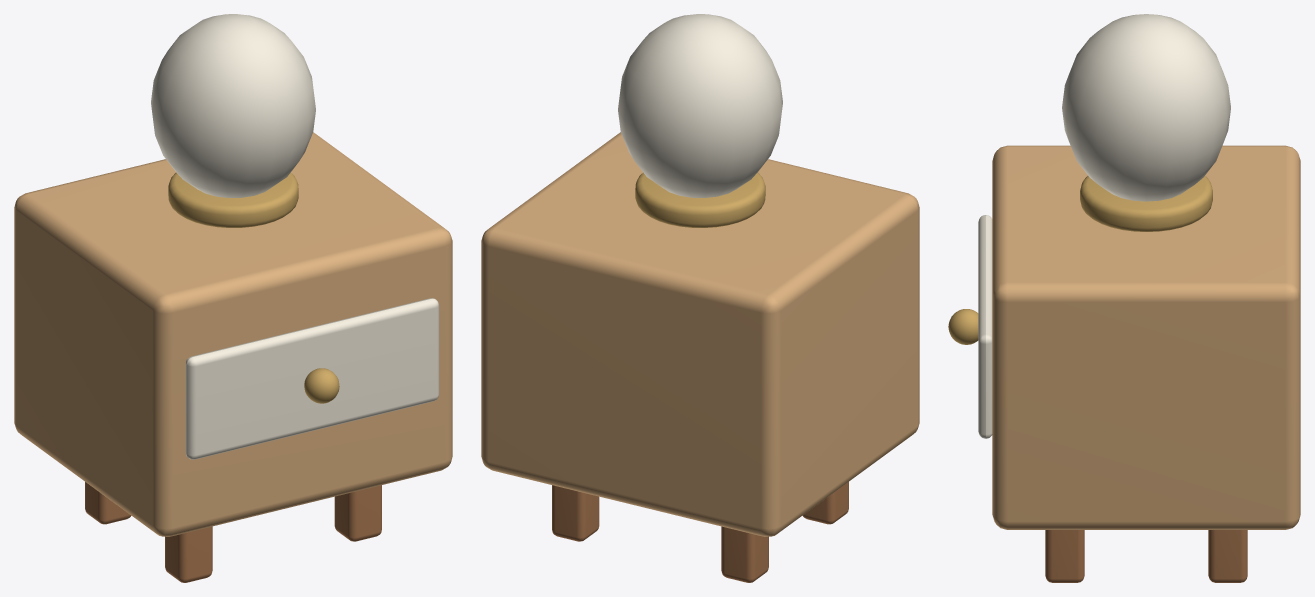
Rendered from nightstand.glb.
3 renders of one model, left to right at view 1: azimuth 30°, elevation 25°; view 2: azimuth 150°, elevation 25°; view 3: azimuth 270°, elevation 25°, orthographic.
Visible parts, largest first — view 1: Bedside cabinet, Bedside drawer, Bedside lamp, Bedside lamp base, Tapered leg.029, Tapered leg.031, Tapered leg.028, Drawer knob; view 2: Bedside cabinet, Bedside lamp, Bedside lamp base, Tapered leg.028, Tapered leg.030, Tapered leg.029; view 3: Bedside cabinet, Bedside lamp, Bedside lamp base, Bedside drawer, Tapered leg.030, Tapered leg.031, Drawer knob.
Part boxes in pixels (x1,y1,x2,y2): Bedside cabinet: (14, 132, 452, 536); Bedside drawer: (185, 298, 439, 459); Bedside lamp: (151, 14, 315, 197); Bedside lamp base: (168, 172, 298, 227); Tapered leg.029: (165, 526, 212, 582); Tapered leg.031: (334, 485, 381, 541); Tapered leg.028: (85, 482, 131, 524); Drawer knob: (304, 368, 339, 403); Bedside cabinet: (481, 132, 919, 536); Bedside lamp: (618, 14, 782, 197); Bedside lamp base: (635, 172, 765, 227); Tapered leg.028: (721, 526, 768, 582); Tapered leg.030: (552, 485, 599, 541); Tapered leg.029: (802, 482, 848, 524); Bedside cabinet: (992, 145, 1300, 529); Bedside lamp: (1062, 14, 1230, 201); Bedside lamp base: (1080, 176, 1212, 231); Bedside drawer: (978, 215, 992, 438); Tapered leg.030: (1208, 530, 1247, 582); Tapered leg.031: (1045, 530, 1084, 582); Drawer knob: (948, 309, 978, 344).
Size of the model in its own units: 0.58 by 0.94 by 0.583.
